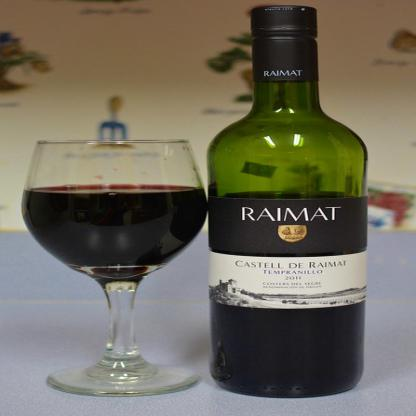drinking: (208, 5, 370, 398), (22, 140, 209, 398)
